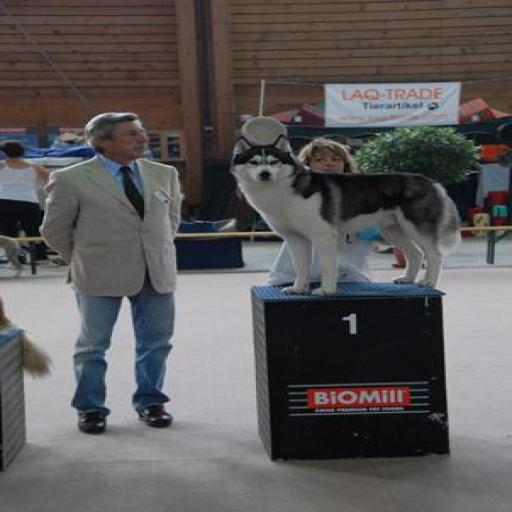dog_face: (220, 137, 300, 190)
